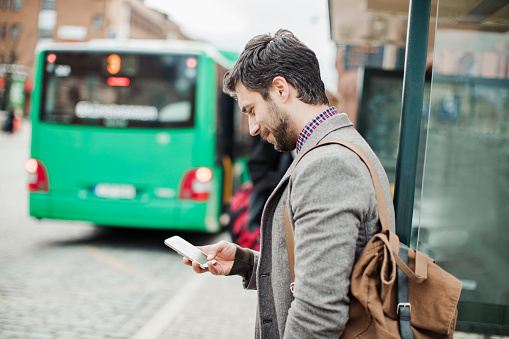em pe: (189, 21, 411, 339)
